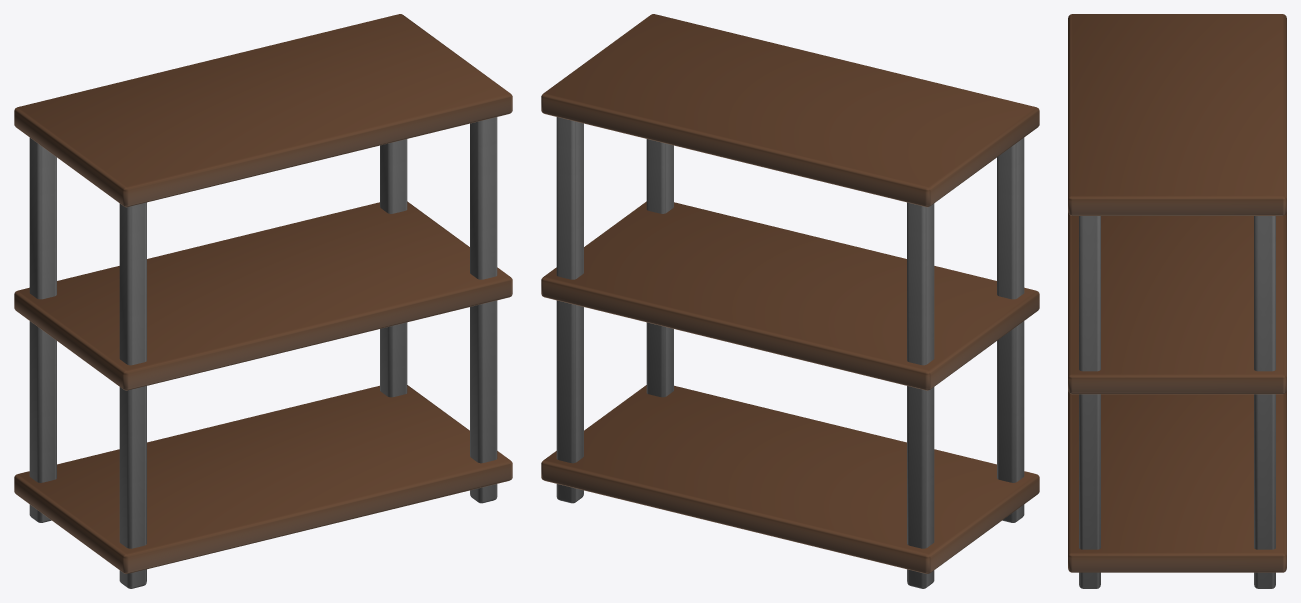
Rendered from HH_Shelf.fbx.
3 views of the same model, side by side, from view 1: azimuth 30°, elevation 25°; view 2: azimuth 150°, elevation 25°; view 3: azimuth 270°, elevation 25° (orthographic). The views are drawn at different scales.
Parts seen in each view (by area): view 1: Shelf; view 2: Shelf; view 3: Shelf.
Part boxes in pixels (left/top/right/bottom): Shelf: left=14, top=14, right=512, bottom=588; Shelf: left=541, top=14, right=1039, bottom=588; Shelf: left=1068, top=14, right=1286, bottom=588.
Size of the model in its own units: 200 by 201 by 100.
Materials: 1 (1 with a texture image).
